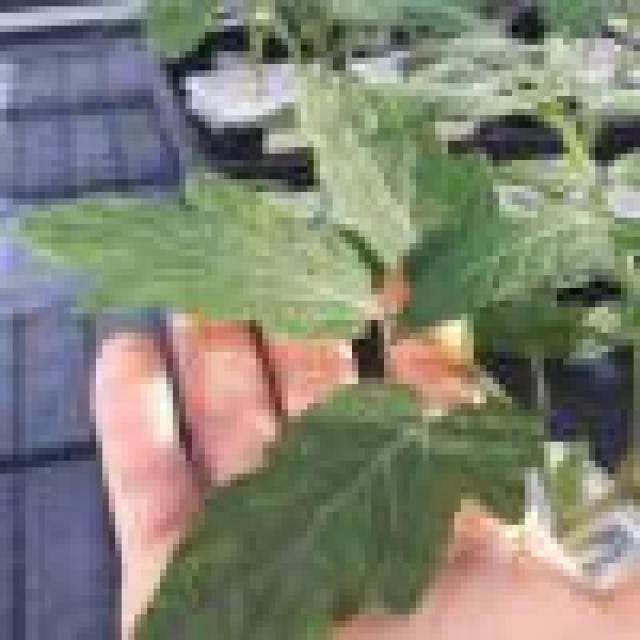Leaf Mold: (136, 372, 552, 635), (1, 161, 398, 334), (385, 193, 615, 359)
